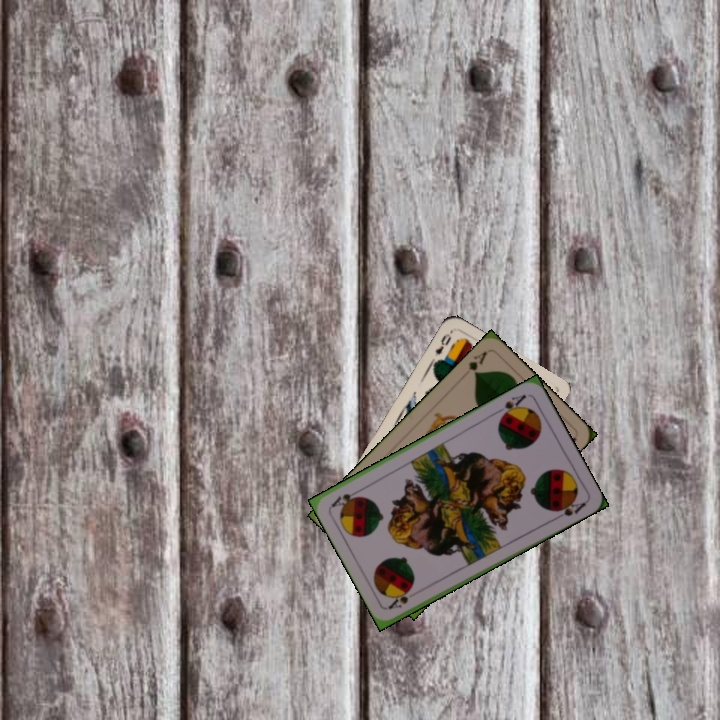EO: (431, 327, 455, 358)
GA: (464, 347, 490, 378)
SA: (492, 390, 529, 421), (384, 586, 413, 612)
